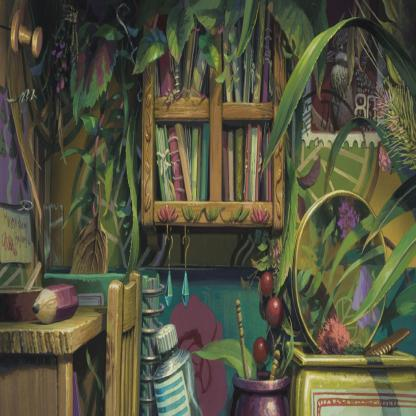book: (153, 14, 209, 102), (153, 118, 207, 204), (222, 6, 270, 102), (222, 126, 272, 200)
